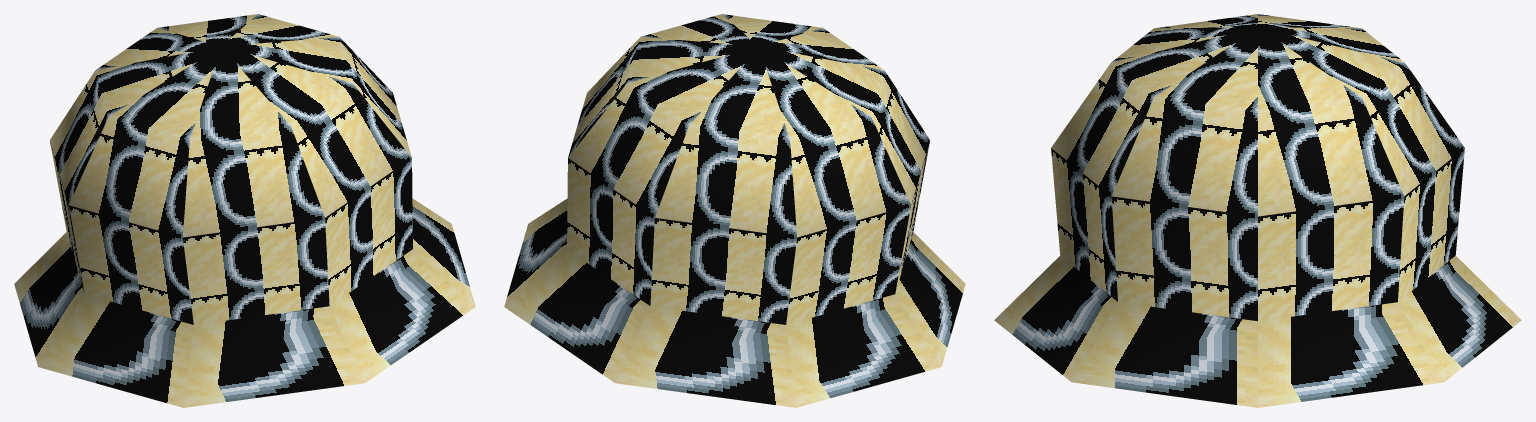
3 renders of one model, left to right at view 1: azimuth 30°, elevation 25°; view 2: azimuth 150°, elevation 25°; view 3: azimuth 270°, elevation 25°, orthographic. The views are drawn at different scales.
Parts seen in each view (by area): view 1: ef_673; view 2: ef_673; view 3: ef_673.
Boxes of the visible parts, bbox=[...] form: ef_673: bbox=[14, 14, 475, 407]; ef_673: bbox=[504, 14, 965, 407]; ef_673: bbox=[994, 14, 1521, 407].
Size of the model in its own units: 0.4189 by 0.2671 by 0.4209.
Materials: 1 (1 with a texture image).
